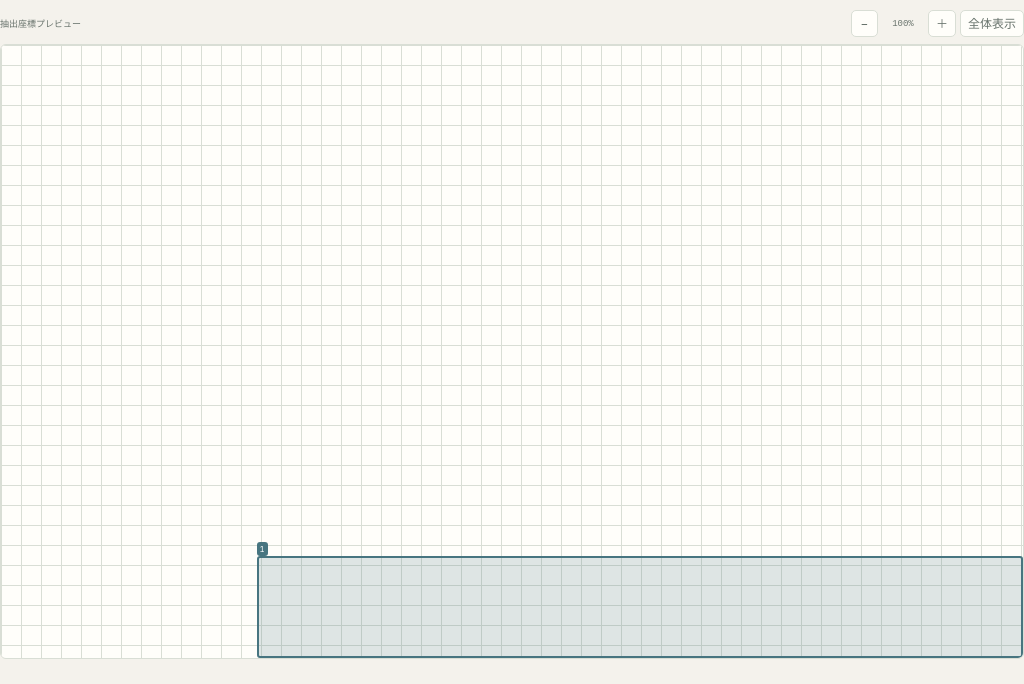
Scenario: EvidencePageOverlay › supports zoom controls and coordinate-only fallback
Expected: the text "抽出座標プレビュー" is shown, [0,17,81,30]
Click the button named "拡大". click: point(942, 24)
box: [928,10,956,37]
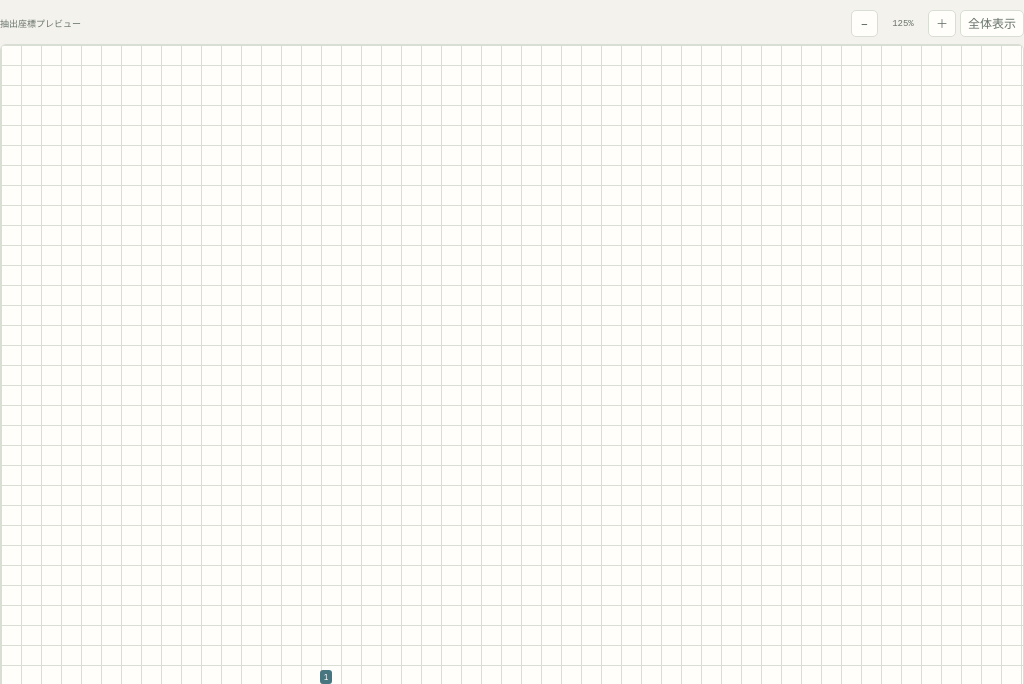
Expected: the text named "ズーム率" reads "125%", [892,18,914,28]
